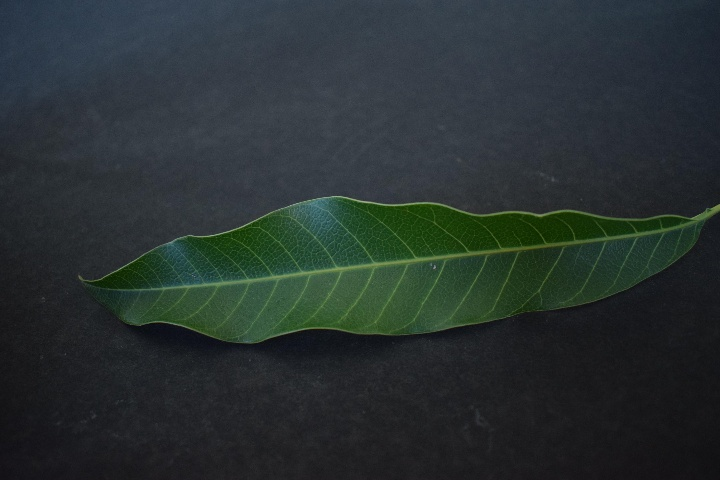healthy: (94, 194, 687, 340)
